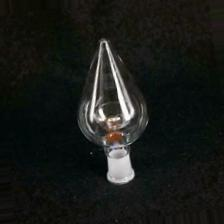Pear shaped flask: (75, 35, 151, 189)
